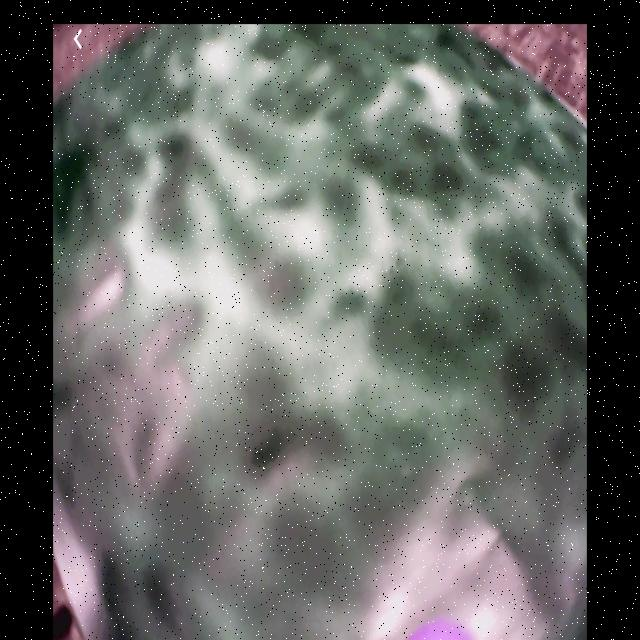ball: (406, 616, 472, 640)
